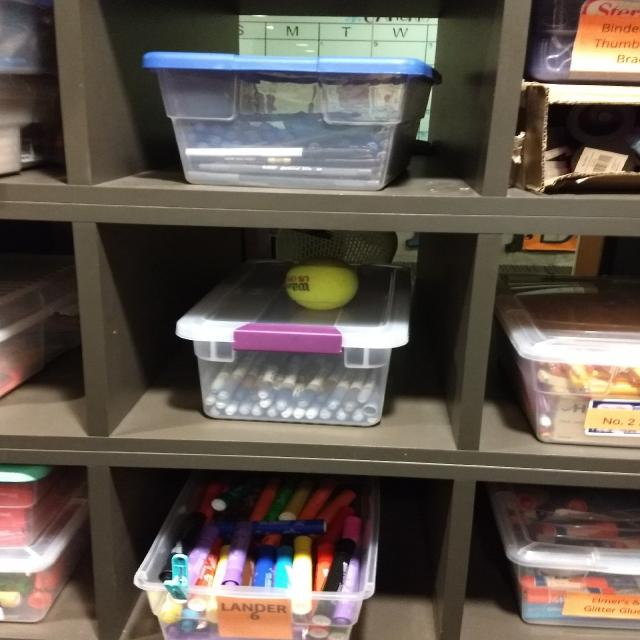tennis-ball: (285, 256, 358, 313)
